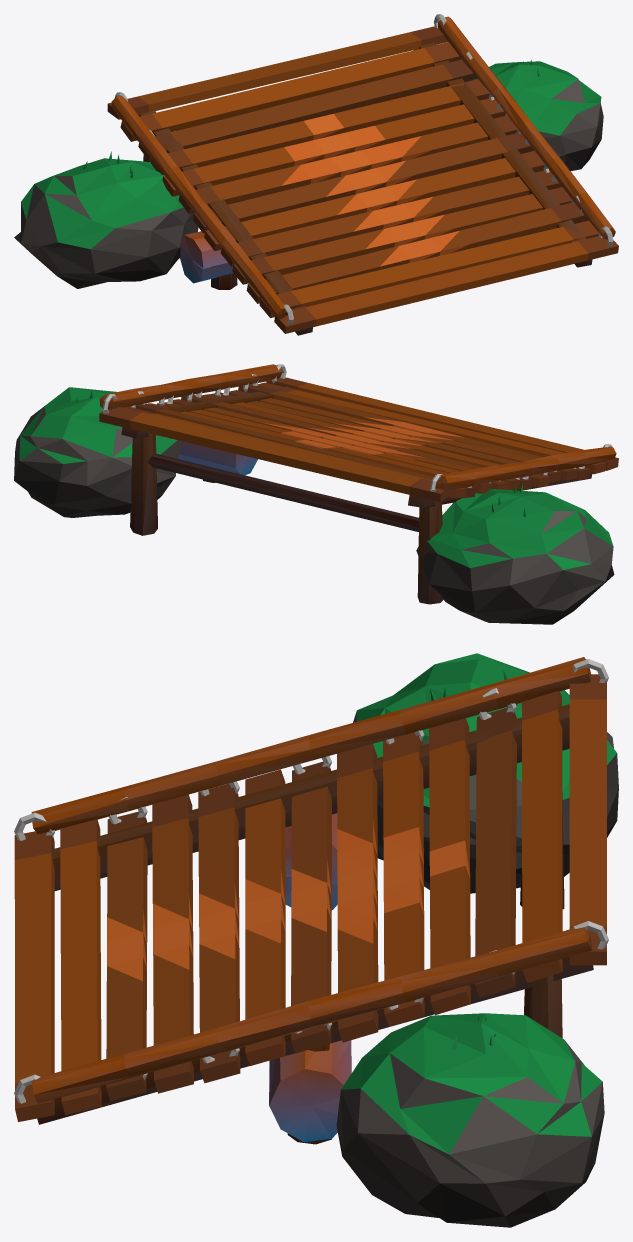
Rendered from riverrush_short_ramp_cedar_414754.glb.
3 views of the same model, one above another, from view 1: azimuth 30°, elevation 25°; view 2: azimuth 150°, elevation 25°; view 3: azimuth 270°, elevation 25° (orthographic). The views are drawn at different scales.
Parts seen in each view (by area): view 1: Tanjakan_Jumping_Pendek; view 2: Tanjakan_Jumping_Pendek; view 3: Tanjakan_Jumping_Pendek.
Boxes of the visible parts, <box> form: Tanjakan_Jumping_Pendek: <box>14,14,618,335</box>; Tanjakan_Jumping_Pendek: <box>14,364,618,624</box>; Tanjakan_Jumping_Pendek: <box>14,653,618,1227</box>.
Size of the model in its own units: 9.65 by 2.42 by 5.25.
